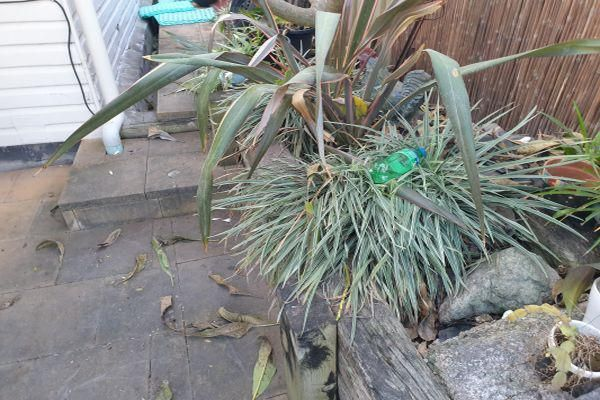Plastic Bottle: (369, 146, 428, 184)
